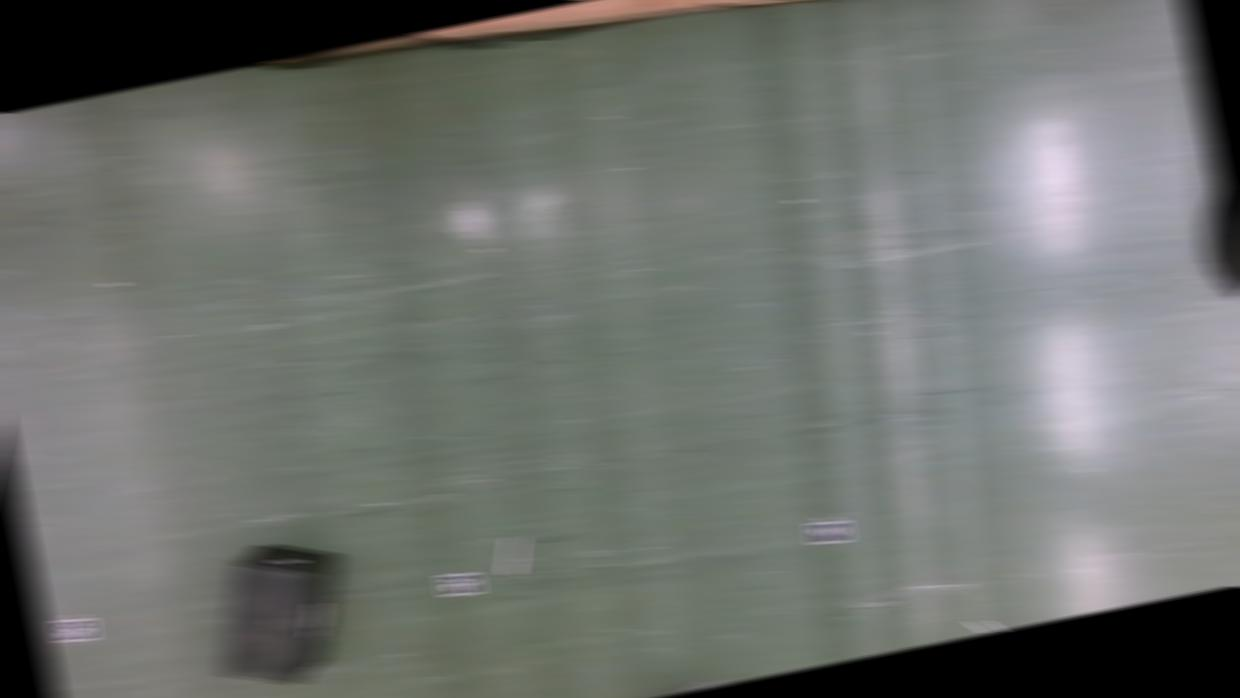probes: (498, 534, 530, 573)
rako: (196, 528, 364, 696)
